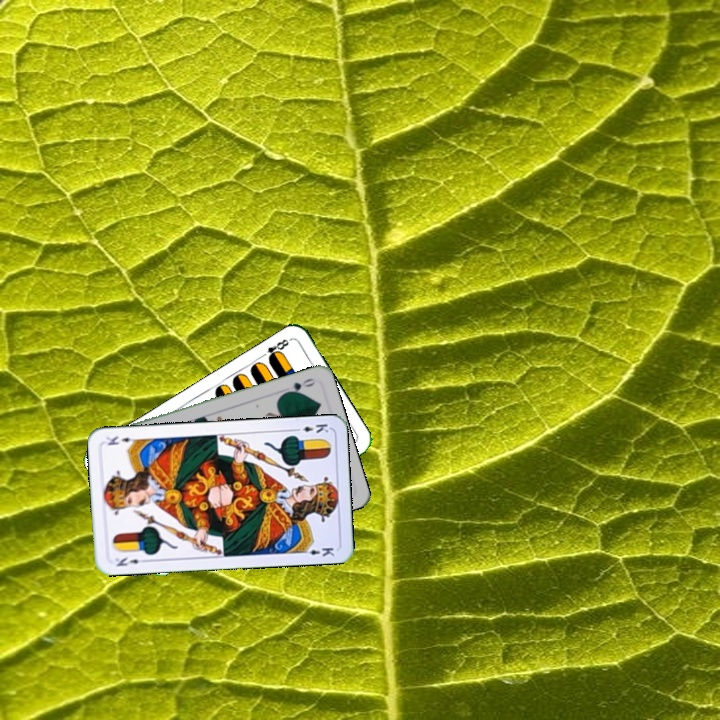E8: (257, 335, 291, 363)
EK: (290, 420, 331, 435), (111, 553, 149, 569)
GO: (280, 374, 318, 397)
